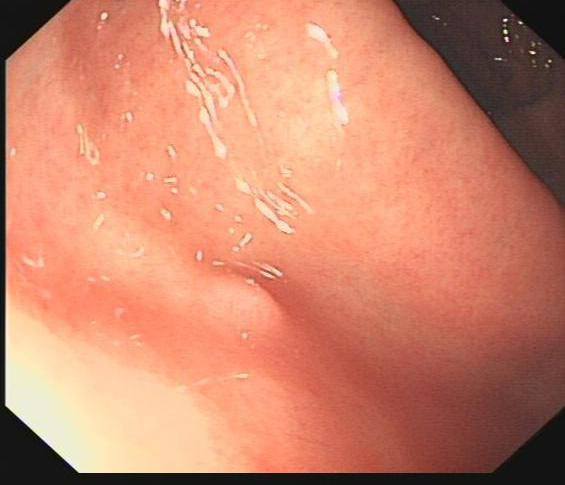Polyp: (192, 266, 291, 337)
